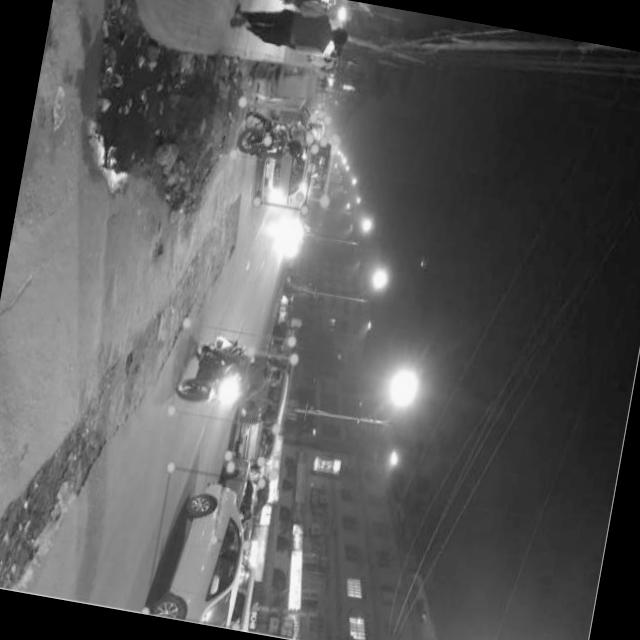bus: (300, 142, 336, 204)
car: (145, 470, 261, 630), (214, 460, 261, 548), (258, 144, 315, 213)
motorcycle: (172, 327, 292, 432), (234, 106, 321, 172), (311, 123, 327, 145)
truck: (232, 354, 294, 476)
